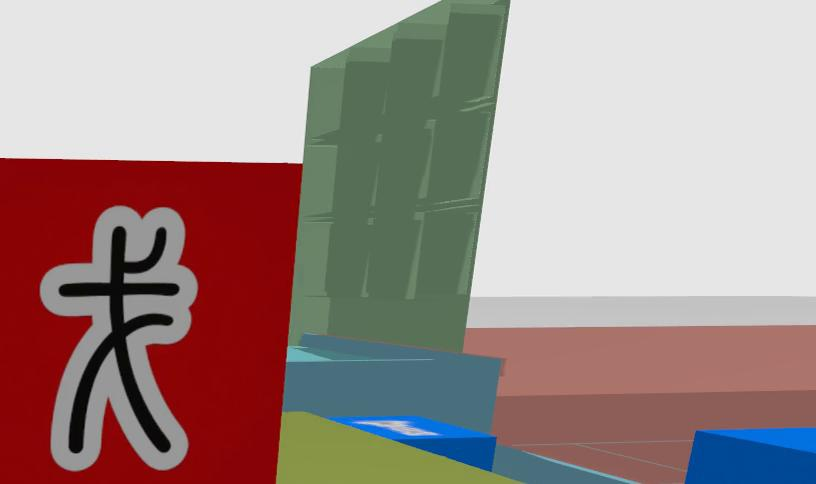KFS_FAKE: (0, 159, 301, 484), (40, 206, 197, 471)
KFS_REAL: (326, 416, 495, 470), (684, 427, 815, 484)
